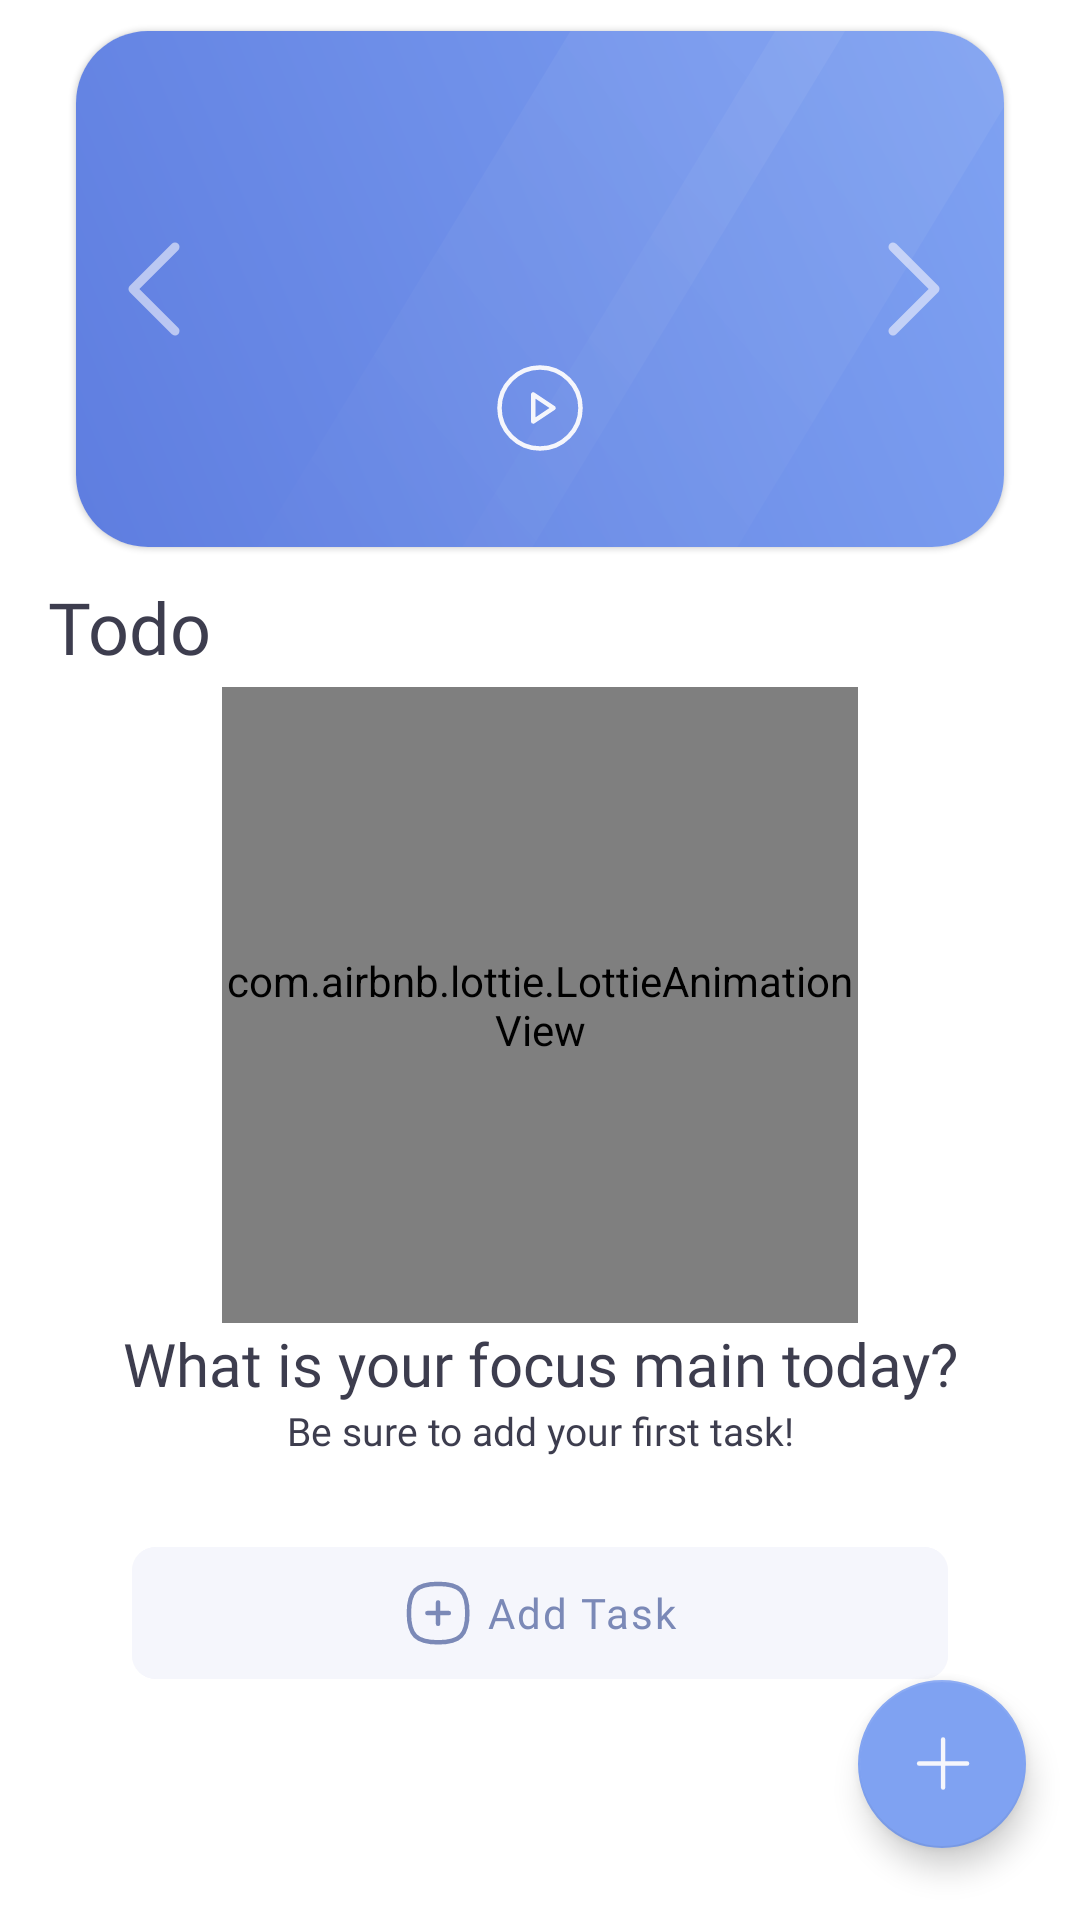

Where icons sit on this 1080×1920 app screen, as (x1, y1, x2, y2):
playcircle: (497, 365, 583, 451)
plusbutton: (858, 1680, 1029, 1866)
